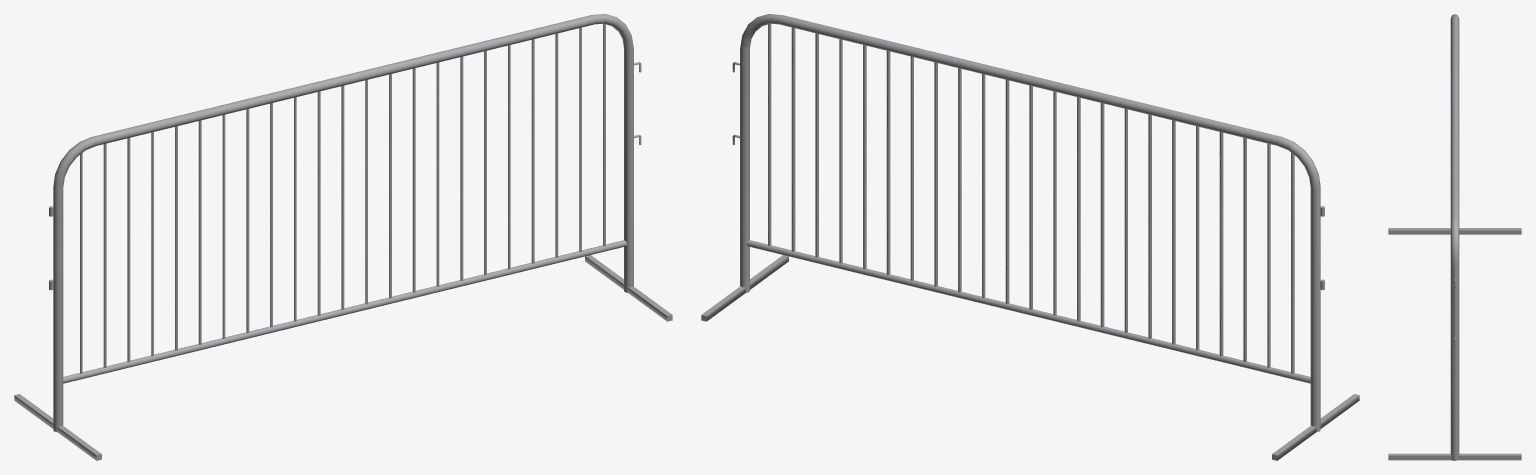
Rendered from hek.dae.
3 renders of one model, left to right at view 1: azimuth 30°, elevation 25°; view 2: azimuth 150°, elevation 25°; view 3: azimuth 270°, elevation 25°, orthographic. The views are drawn at different scales.
Visible parts, largest first — view 1: Vertical_Bar (×23), Barrier, Foot (×2); view 2: Vertical_Bar (×23), Barrier, Foot (×2); view 3: Barrier, Foot (×2).
Boxes of the visible parts, x1,y1,x2,y2 form: Vertical_Bar (×23): (80, 23, 605, 373); Barrier: (53, 14, 641, 431); Foot (×2): (14, 255, 672, 460); Vertical_Bar (×23): (768, 23, 1294, 373); Barrier: (732, 14, 1320, 431); Foot (×2): (701, 255, 1359, 460); Barrier: (1450, 14, 1459, 460); Foot (×2): (1388, 228, 1521, 460).
Size of the model in its own units: 99.62 by 24 by 45.75.
